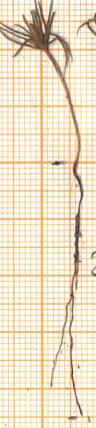flower: (0, 1, 78, 71)
root: (49, 164, 87, 412)
stem: (46, 53, 84, 162)
